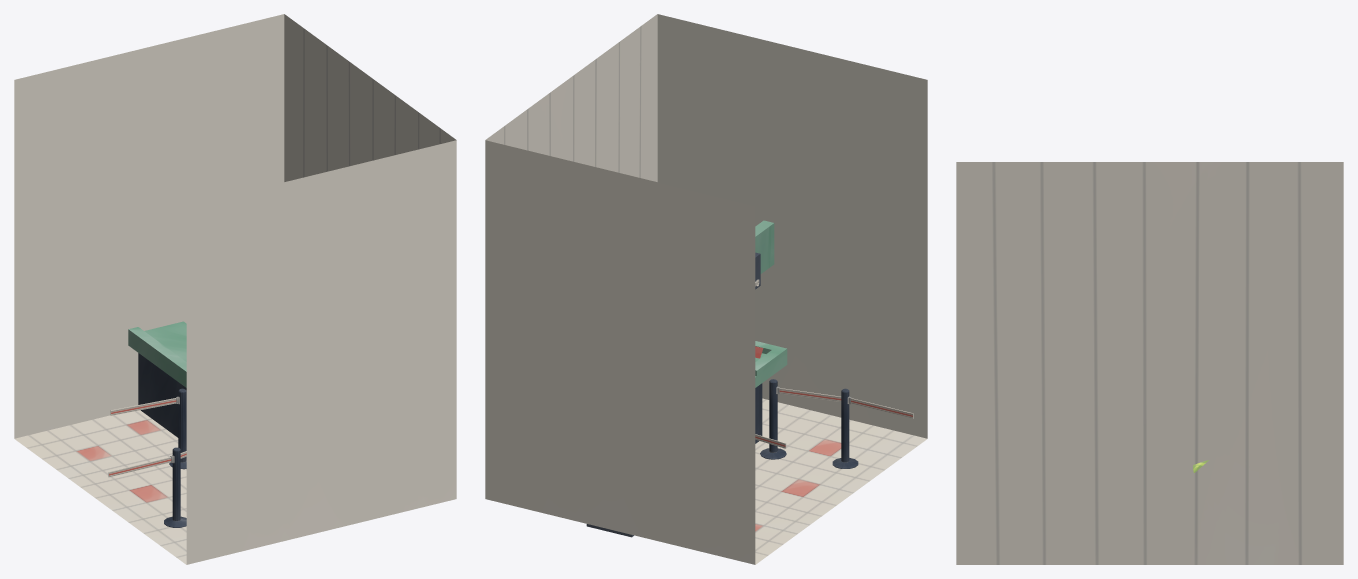
The model's file is aeroport.glb.
The picture shows the model from 3 angles, left to right: view 1: azimuth 30°, elevation 25°; view 2: azimuth 150°, elevation 25°; view 3: azimuth 270°, elevation 25°; orthographic projection. The views are drawn at different scales.
Parts seen in each view (by area): view 1: scene, desk, poteau1.001, poteau1.002; view 2: scene, desk, poteau1.001, poteau1, sign; view 3: scene.
Boxes of the visible parts, left/top/right/bottom form: scene: left=14, top=14, right=456, bottom=564; desk: left=128, top=321, right=186, bottom=437; poteau1.001: left=108, top=447, right=186, bottom=527; poteau1.002: left=110, top=388, right=186, bottom=469; scene: left=485, top=14, right=927, bottom=564; desk: left=586, top=341, right=787, bottom=537; poteau1.001: left=832, top=388, right=913, bottom=468; poteau1: left=760, top=379, right=841, bottom=459; sign: left=755, top=220, right=774, bottom=289; scene: left=956, top=162, right=1343, bottom=564.
Size of the model in its own units: 11.45 by 12.79 by 11.05.
Materials: 14 (12 with a texture image).
